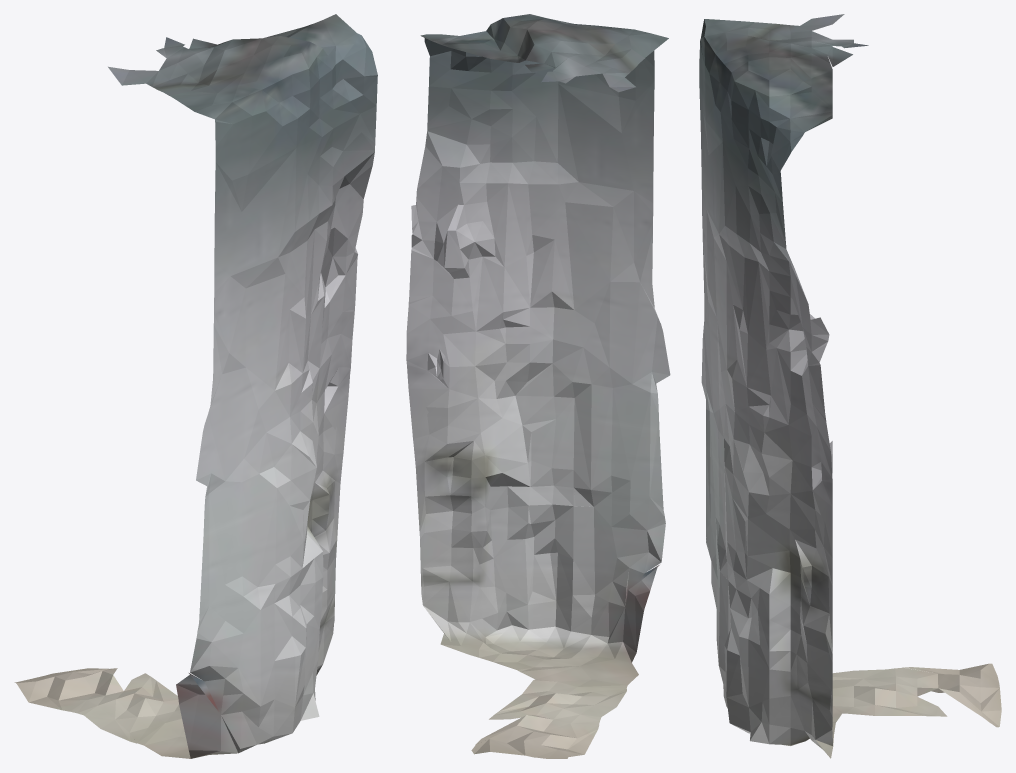
The picture shows the model from 3 angles, left to right: view 1: azimuth 30°, elevation 25°; view 2: azimuth 150°, elevation 25°; view 3: azimuth 270°, elevation 25°; orthographic projection. The views are drawn at different scales.
Visible parts, largest first — view 1: mesh; view 2: mesh; view 3: mesh.
Boxes of the visible parts, x1,y1,x2,y2 form: mesh: [14, 14, 377, 758]; mesh: [406, 14, 670, 758]; mesh: [699, 14, 1001, 758].
Bounding box in the file's own units: 1.4 × 3.62 × 1.43.
Materials: 1 (1 with a texture image).
